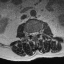CCS_normal: (33, 30, 35, 38)
LFS_normal: (38, 28, 40, 35)
LLS_normal: (35, 30, 38, 37)
RFS_normal: (29, 30, 31, 36)
RLS_normal: (31, 30, 33, 37)
